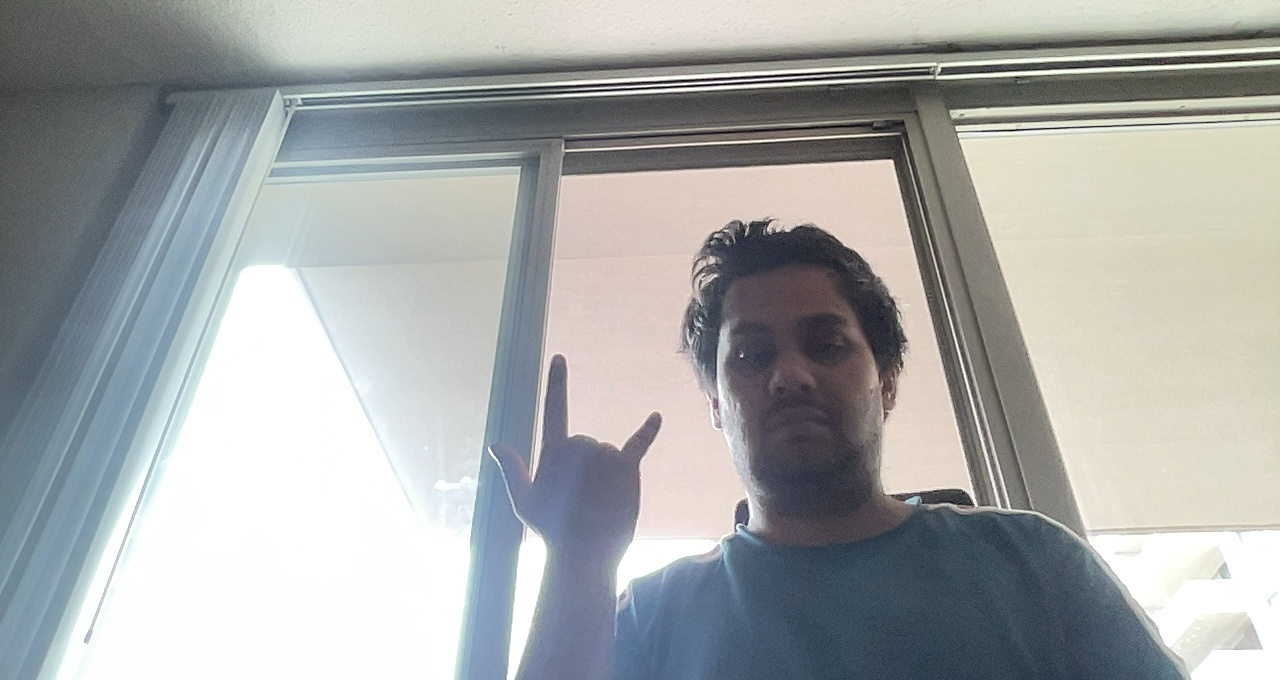rockon sign: (482, 343, 673, 566)
